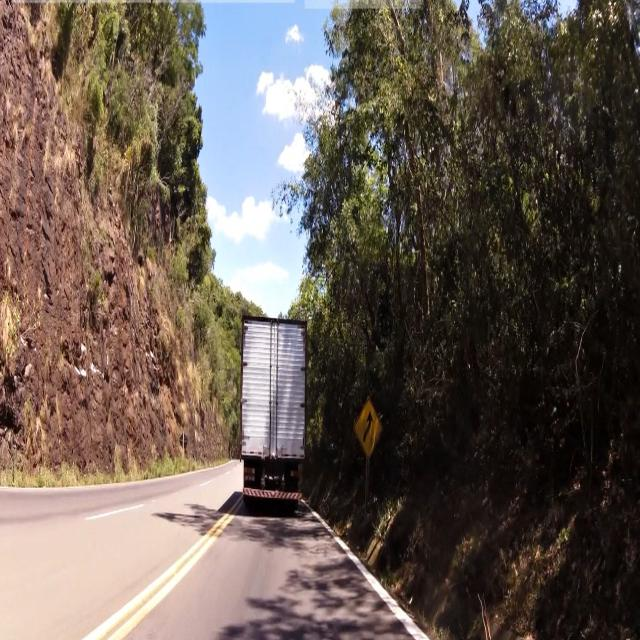A-5b: (356, 394, 385, 462)
